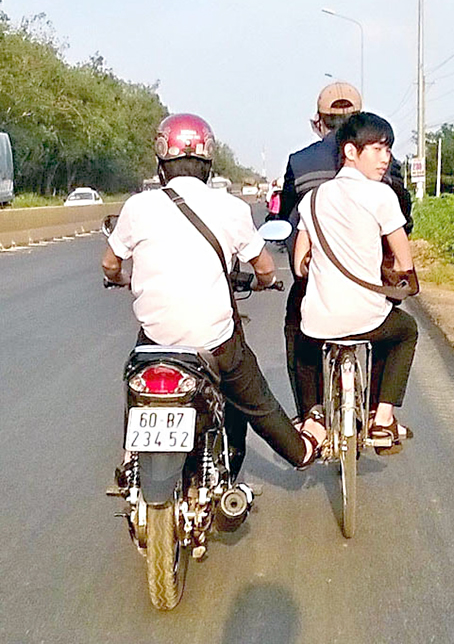Bien-so: (118, 404, 201, 457)
